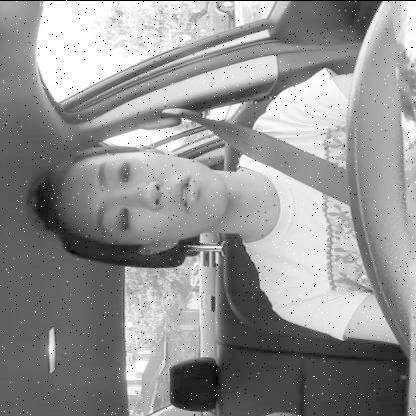seatbelt: (23, 98, 349, 262)
